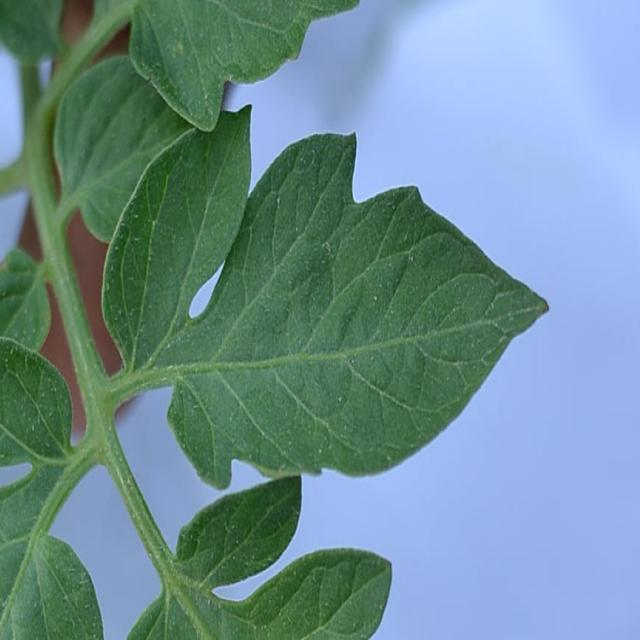healthy: (88, 103, 551, 525)
